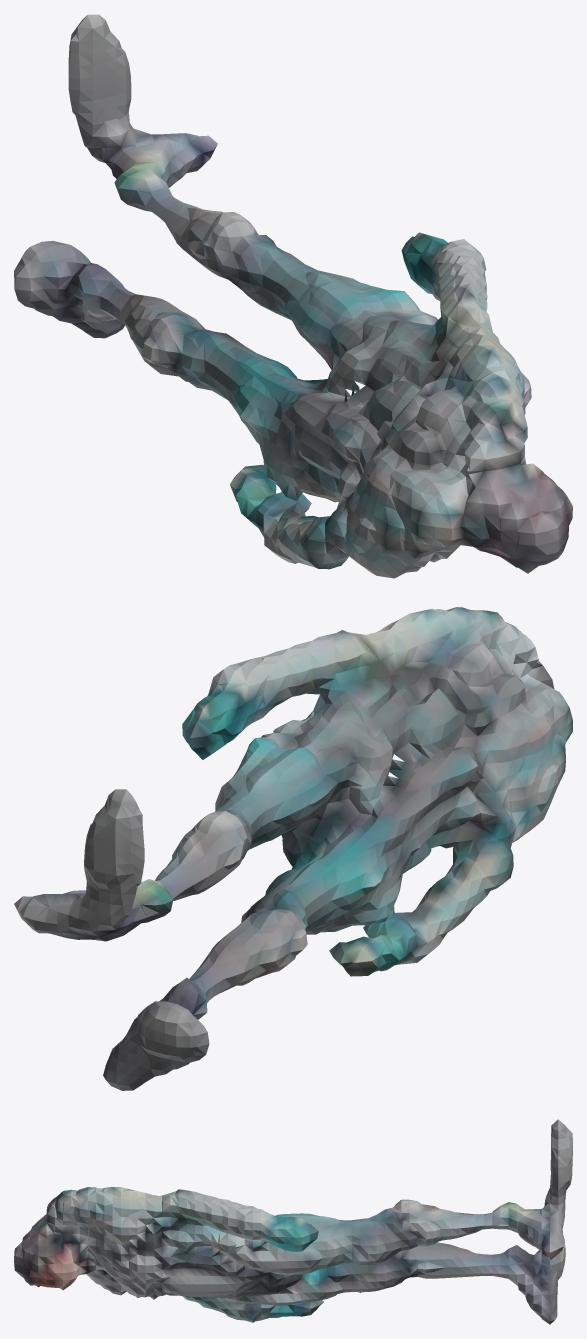
File: future_scholar_f_0.glb
3 views of the same model, one above another, from view 1: azimuth 30°, elevation 25°; view 2: azimuth 150°, elevation 25°; view 3: azimuth 270°, elevation 25° (orthographic). The views are drawn at different scales.
Visible parts, largest first — view 1: world; view 2: world; view 3: world.
Boxes of the visible parts, <box> form: world: <box>14,14,572,578</box>; world: <box>14,607,572,1090</box>; world: <box>14,1119,572,1324</box>.
Size of the model in its own units: 0.287 by 0.3991 by 0.9281.
